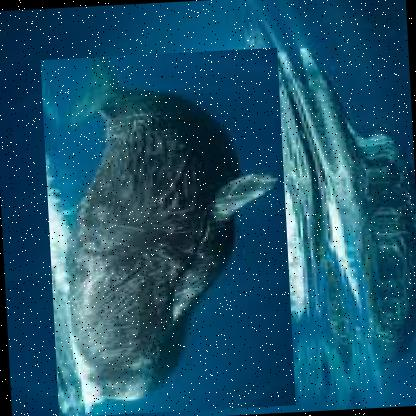sperm_whale: (38, 47, 295, 415)
